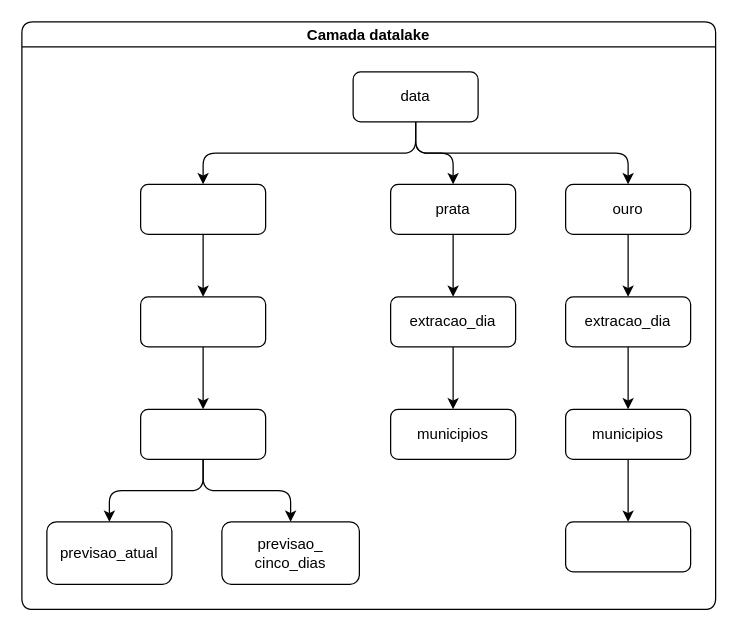
Image size: 738x631. Some labels were removed from this diagram. The centre of each missing label's shape, as x and y in pixels:
bronze: the point at 202,208
extracao_dia_: the point at 202,321
Metricas: the point at 627,546
municipio: the point at 202,433
